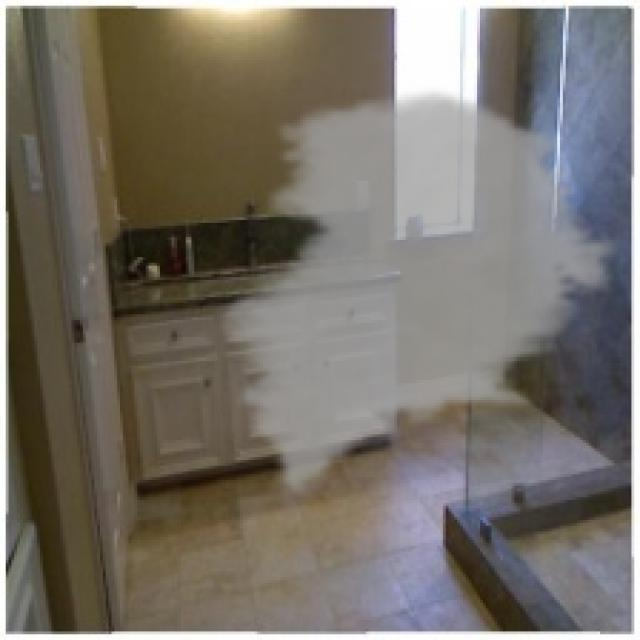Smoke: (208, 86, 626, 497)
